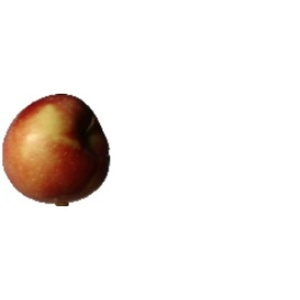maçã braeburn: (2, 86, 116, 206)
